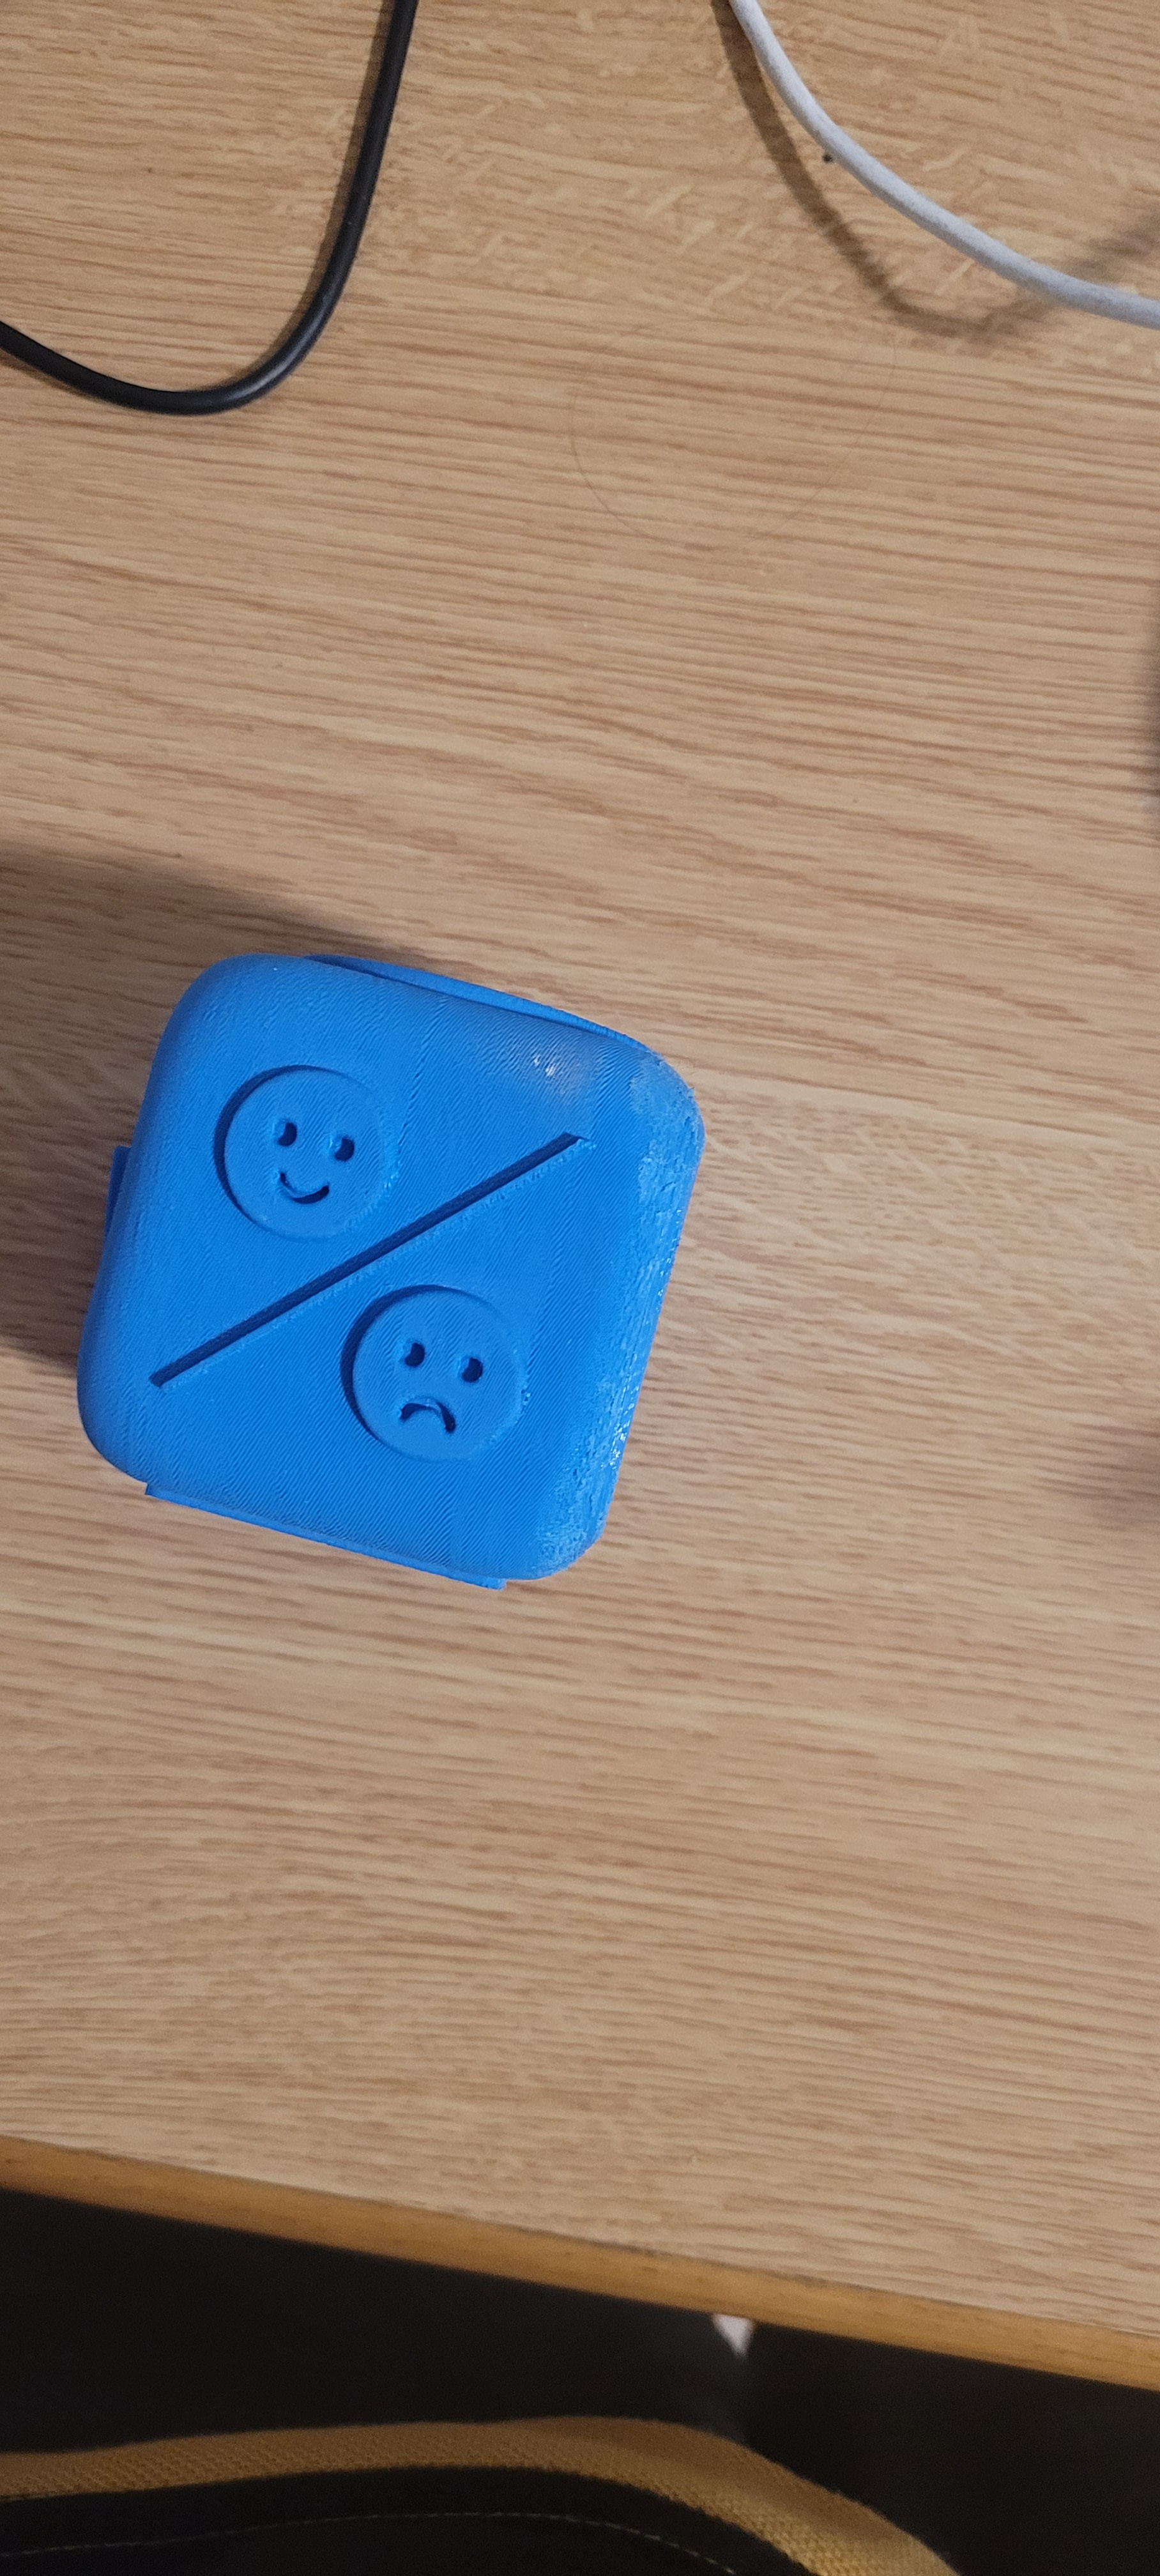Like/Dislike: (112, 910, 665, 1602)
